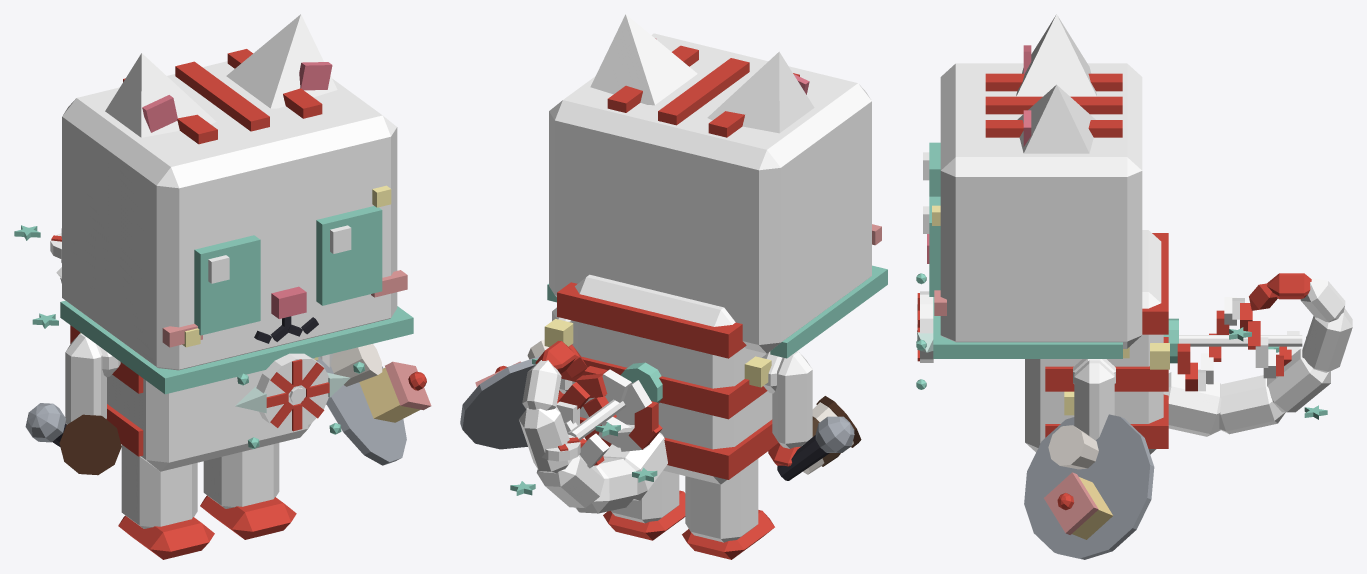
Rendered from CatCafe_Cat_PeppermintSwirl_Work.glb.
3 renders of one model, left to right at view 1: azimuth 30°, elevation 25°; view 2: azimuth 150°, elevation 25°; view 3: azimuth 270°, elevation 25°, orthographic. The views are drawn at different scales.
Parts seen in each view (by area): view 1: CatCafe_Cat_PeppermintSwirl_Work_Head, CatCafe_Cat_PeppermintSwirl_Work_Body, CatCafe_Cat_PeppermintSwirl_Work_Prop, CatCafe_Cat_PeppermintSwirl_Work_Held_Waiter, CatCafe_Cat_PeppermintSwirl_Work_LegB2, CatCafe_Cat_PeppermintSwirl_Work_LegB1, CatCafe_Cat_PeppermintSwirl_Work_Eye1, CatCafe_Cat_PeppermintSwirl_Work_Eye2, CatCafe_Cat_PeppermintSwirl_Work_EarL, CatCafe_Cat_PeppermintSwirl_Work_EarR, CatCafe_Cat_PeppermintSwirl_Work_LegF2, CatCafe_Cat_PeppermintSwirl_Work_Held_Barista (+3 smaller); view 2: CatCafe_Cat_PeppermintSwirl_Work_Head, CatCafe_Cat_PeppermintSwirl_Work_Body, CatCafe_Cat_PeppermintSwirl_Work_Tail, CatCafe_Cat_PeppermintSwirl_Work_Prop2, CatCafe_Cat_PeppermintSwirl_Work_LegB2, CatCafe_Cat_PeppermintSwirl_Work_EarL, CatCafe_Cat_PeppermintSwirl_Work_Held_Waiter, CatCafe_Cat_PeppermintSwirl_Work_EarR, CatCafe_Cat_PeppermintSwirl_Work_LegF2, CatCafe_Cat_PeppermintSwirl_Work_LegB1, CatCafe_Cat_PeppermintSwirl_Work_Prop, CatCafe_Cat_PeppermintSwirl_Work_Held_Entertainer (+2 smaller); view 3: CatCafe_Cat_PeppermintSwirl_Work_Head, CatCafe_Cat_PeppermintSwirl_Work_Held_Waiter, CatCafe_Cat_PeppermintSwirl_Work_Tail, CatCafe_Cat_PeppermintSwirl_Work_Body, CatCafe_Cat_PeppermintSwirl_Work_Prop2, CatCafe_Cat_PeppermintSwirl_Work_Prop, CatCafe_Cat_PeppermintSwirl_Work_EarR, CatCafe_Cat_PeppermintSwirl_Work_EarL, CatCafe_Cat_PeppermintSwirl_Work_LegF1, CatCafe_Cat_PeppermintSwirl_Work_Eye1, CatCafe_Cat_PeppermintSwirl_Work_Eye2.
Part boxes in pixels (x1,y1,x2,y2): CatCafe_Cat_PeppermintSwirl_Work_Head: (62, 49, 407, 370); CatCafe_Cat_PeppermintSwirl_Work_Body: (70, 325, 318, 471); CatCafe_Cat_PeppermintSwirl_Work_Prop: (60, 300, 413, 431); CatCafe_Cat_PeppermintSwirl_Work_Held_Waiter: (316, 344, 431, 465); CatCafe_Cat_PeppermintSwirl_Work_LegB2: (118, 445, 214, 559); CatCafe_Cat_PeppermintSwirl_Work_LegB1: (200, 443, 296, 539); CatCafe_Cat_PeppermintSwirl_Work_Eye1: (316, 206, 382, 305); CatCafe_Cat_PeppermintSwirl_Work_Eye2: (194, 235, 260, 335); CatCafe_Cat_PeppermintSwirl_Work_EarL: (226, 14, 337, 108); CatCafe_Cat_PeppermintSwirl_Work_EarR: (105, 53, 216, 137); CatCafe_Cat_PeppermintSwirl_Work_LegF2: (65, 333, 106, 424); CatCafe_Cat_PeppermintSwirl_Work_Held_Barista: (59, 414, 121, 475); CatCafe_Cat_PeppermintSwirl_Work_Head: (549, 33, 881, 353); CatCafe_Cat_PeppermintSwirl_Work_Body: (544, 274, 782, 484); CatCafe_Cat_PeppermintSwirl_Work_Tail: (519, 341, 667, 513); CatCafe_Cat_PeppermintSwirl_Work_Prop2: (542, 362, 662, 468); CatCafe_Cat_PeppermintSwirl_Work_LegB2: (682, 459, 774, 559); CatCafe_Cat_PeppermintSwirl_Work_EarL: (590, 14, 697, 105); CatCafe_Cat_PeppermintSwirl_Work_Held_Waiter: (460, 339, 548, 449); CatCafe_Cat_PeppermintSwirl_Work_EarR: (707, 51, 814, 133); CatCafe_Cat_PeppermintSwirl_Work_LegF2: (768, 351, 812, 466); CatCafe_Cat_PeppermintSwirl_Work_LegB1: (603, 470, 685, 540); CatCafe_Cat_PeppermintSwirl_Work_Prop: (547, 265, 887, 358); CatCafe_Cat_PeppermintSwirl_Work_Held_Entertainer: (777, 416, 854, 480); CatCafe_Cat_PeppermintSwirl_Work_Head: (927, 63, 1142, 348); CatCafe_Cat_PeppermintSwirl_Work_Held_Waiter: (1024, 414, 1154, 559); CatCafe_Cat_PeppermintSwirl_Work_Tail: (1163, 273, 1352, 436); CatCafe_Cat_PeppermintSwirl_Work_Body: (1025, 230, 1169, 454); CatCafe_Cat_PeppermintSwirl_Work_Prop2: (1163, 297, 1306, 391); CatCafe_Cat_PeppermintSwirl_Work_Prop: (917, 291, 1122, 362); CatCafe_Cat_PeppermintSwirl_Work_EarR: (1016, 14, 1096, 96); CatCafe_Cat_PeppermintSwirl_Work_EarL: (1017, 84, 1095, 153); CatCafe_Cat_PeppermintSwirl_Work_LegF1: (1074, 360, 1114, 440); CatCafe_Cat_PeppermintSwirl_Work_Eye1: (923, 196, 940, 296); CatCafe_Cat_PeppermintSwirl_Work_Eye2: (923, 142, 940, 196).
Size of the model in its own units: 1.53 by 1.93 by 1.65.
1 material, 1 textured.
